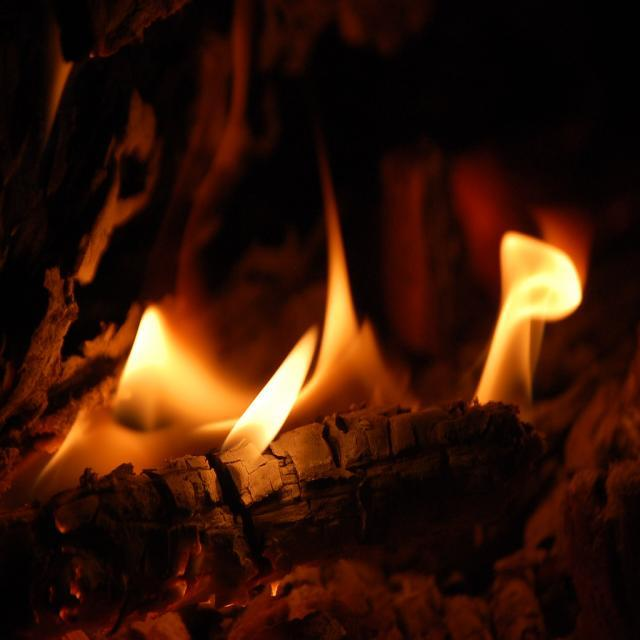Fire: (128, 323, 256, 447), (500, 235, 585, 323), (304, 318, 380, 392)
